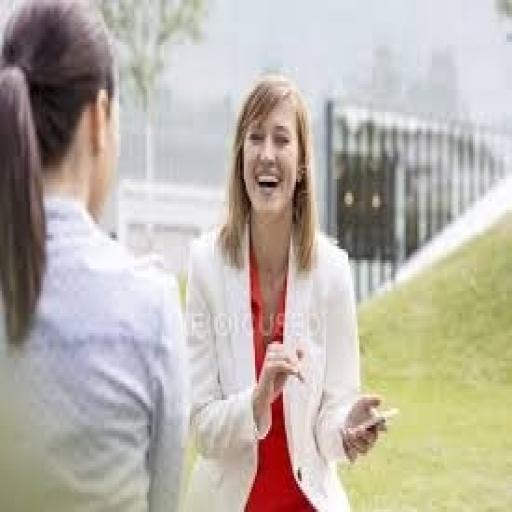laughing: (177, 67, 389, 509)
